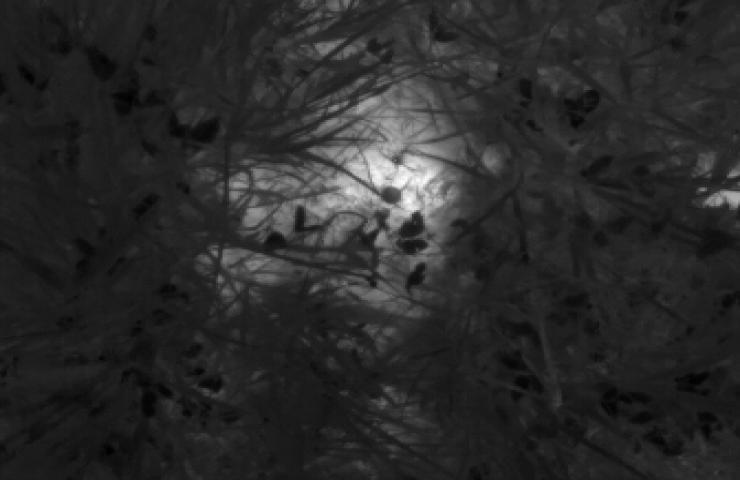landmines: (192, 32, 512, 335)
